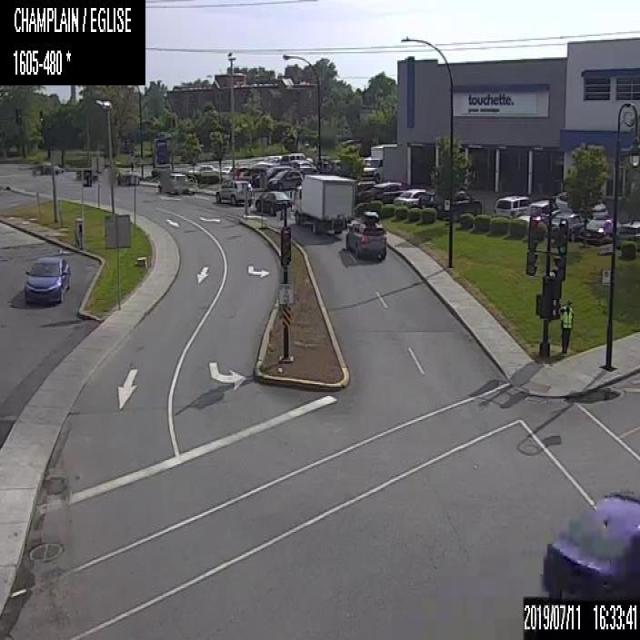pedestrian: (558, 299, 574, 353)
vehicle: (539, 487, 639, 596), (294, 173, 354, 234), (344, 210, 386, 262), (24, 255, 70, 302), (555, 190, 607, 218), (433, 189, 481, 219), (517, 198, 559, 230), (362, 143, 397, 180), (215, 178, 254, 206), (580, 216, 616, 244), (550, 211, 584, 239), (255, 190, 291, 215), (494, 194, 530, 218), (268, 169, 302, 189), (615, 220, 639, 248), (158, 171, 188, 193), (371, 180, 402, 200), (392, 188, 426, 206), (355, 180, 375, 201), (289, 158, 316, 172), (246, 168, 267, 186), (382, 188, 407, 203), (117, 167, 139, 184), (188, 162, 218, 174), (280, 152, 305, 165), (266, 165, 291, 178), (418, 191, 436, 207), (40, 162, 63, 173), (202, 169, 218, 182), (234, 167, 250, 179), (253, 160, 274, 168), (221, 164, 236, 173)
